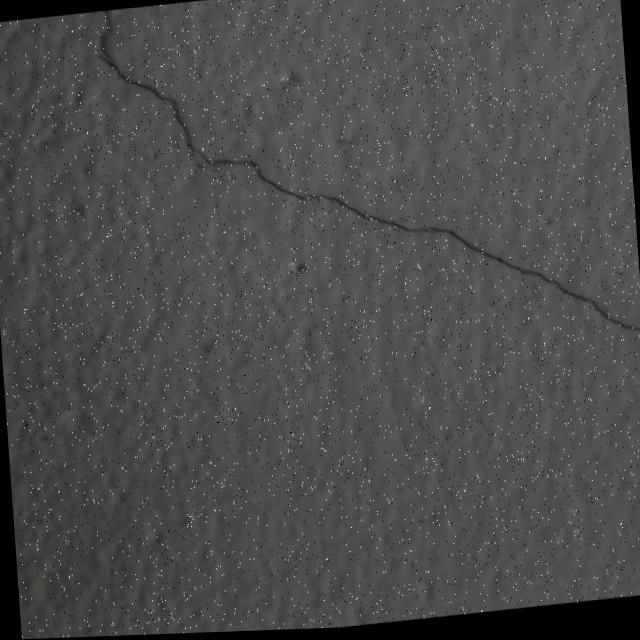Crack: (93, 0, 640, 402)
